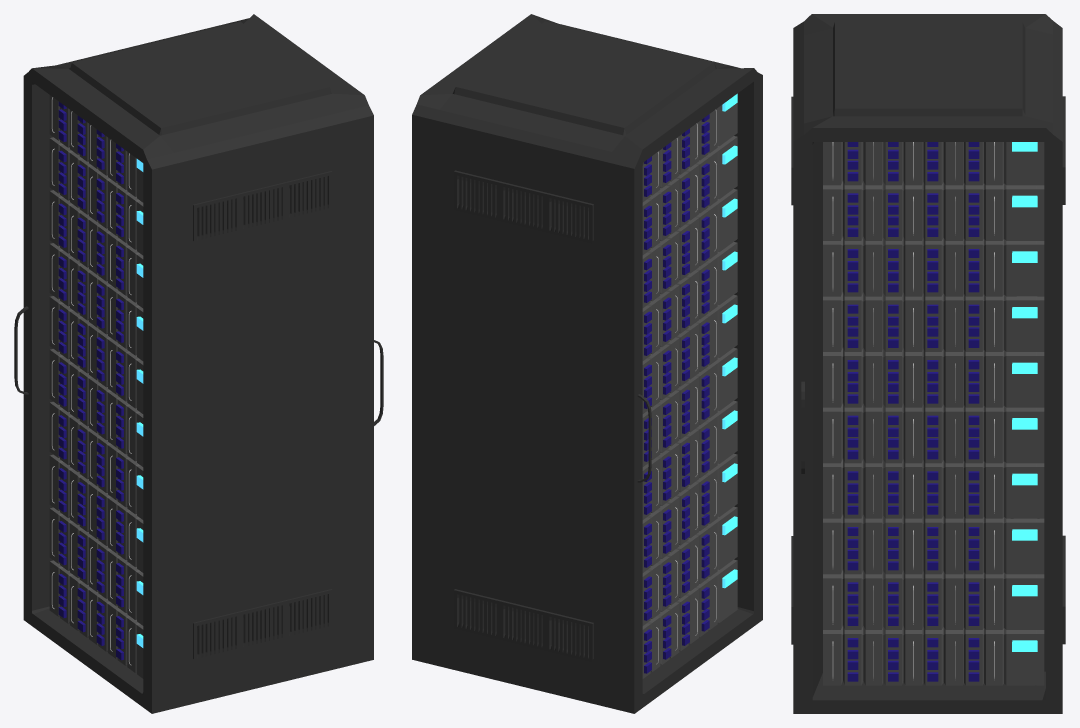
The model's file is rack5.glb.
The picture shows the model from 3 angles, left to right: view 1: azimuth 30°, elevation 25°; view 2: azimuth 150°, elevation 25°; view 3: azimuth 270°, elevation 25°; orthographic projection. The views are drawn at different scales.
Visible parts, largest first — view 1: Cube.009; view 2: Cube.009; view 3: Cube.009.
Part boxes in pixels (bbox=[...]): Cube.009: bbox=[14, 14, 383, 713]; Cube.009: bbox=[412, 14, 762, 713]; Cube.009: bbox=[791, 14, 1065, 713].
Bounding box in the file's own units: 11.16 × 24.27 × 10.18.
